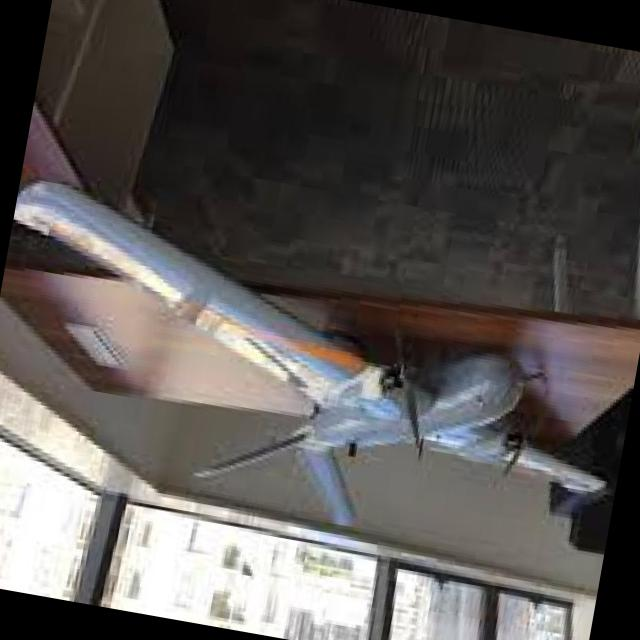UAV: (1, 135, 626, 573)
